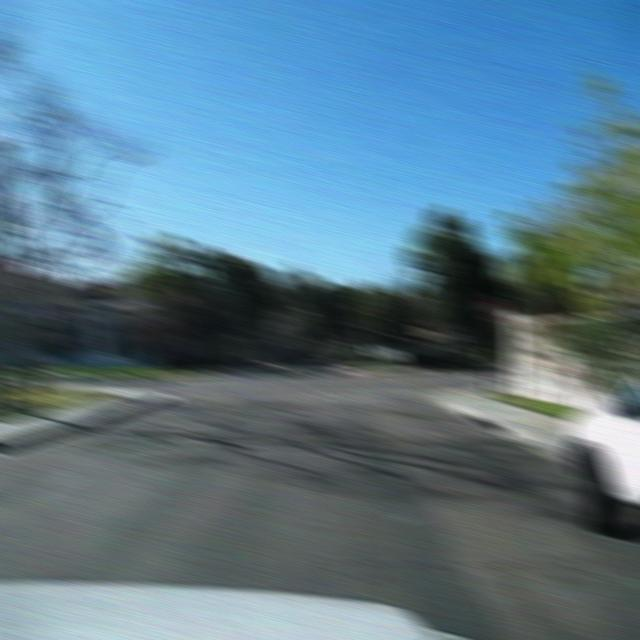stop_sign: (478, 292, 508, 322)
